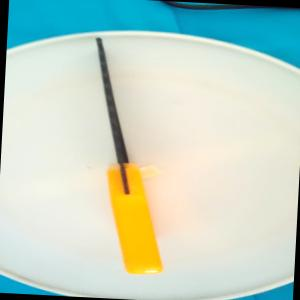serrote: (79, 36, 176, 276)
